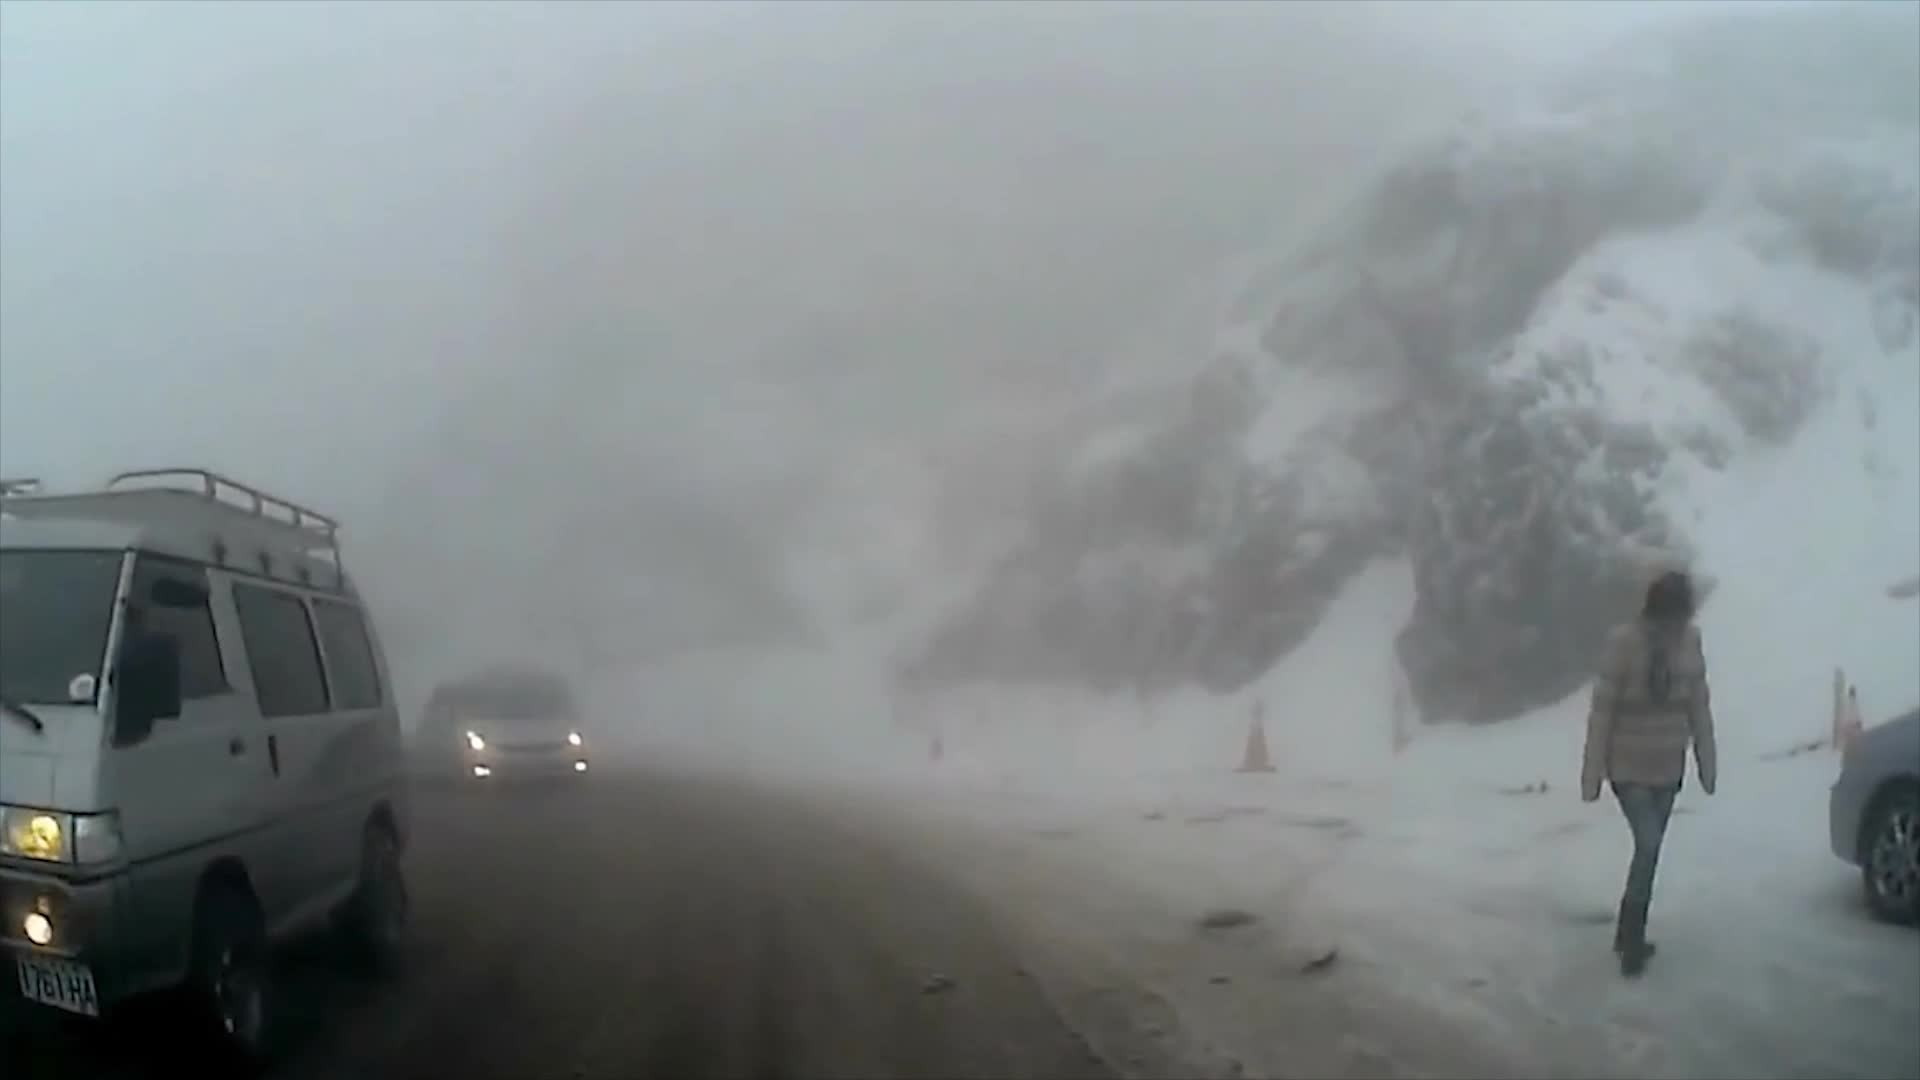pedestrian: (1574, 549, 1716, 976)
vehicle: (0, 469, 419, 1080), (422, 671, 596, 797), (1827, 707, 1919, 927)
